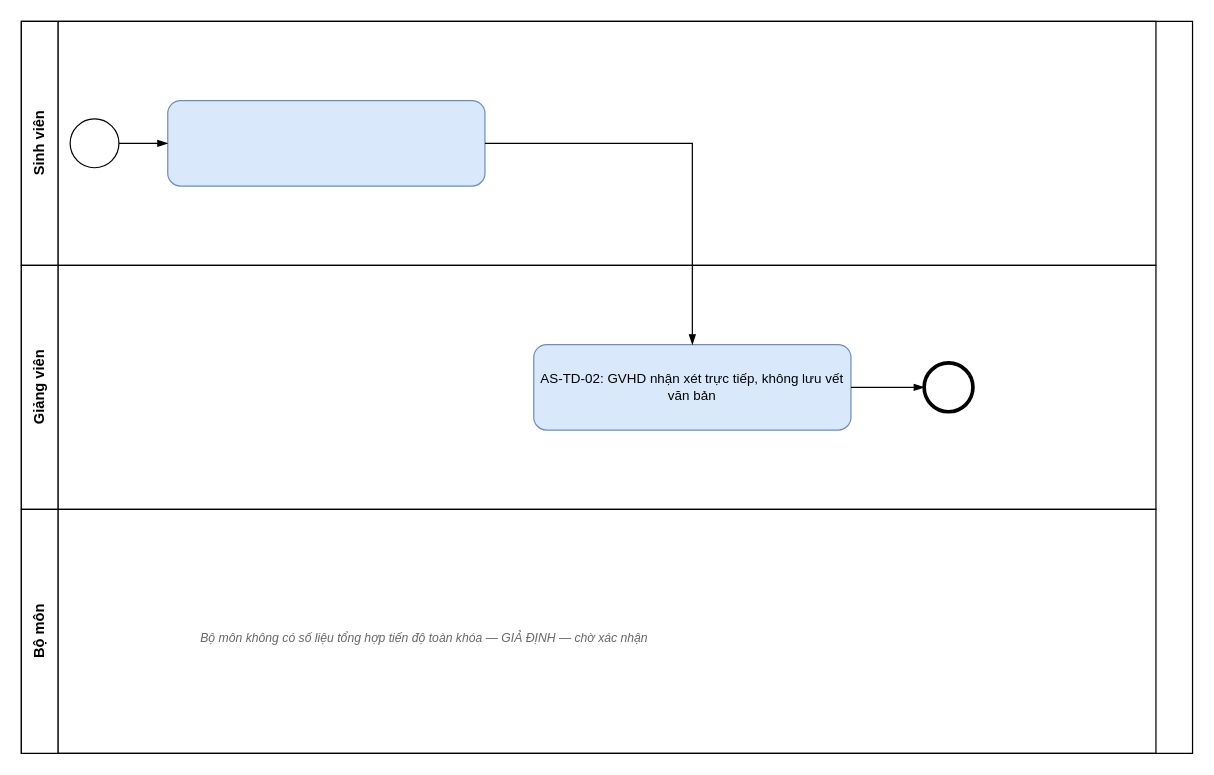
Some shapes in this 1214 by 775 pixel diagram are drawn without their labels. Here are the shapes that lost their labels. From the top down, the centre of each, then its label:
At (94,143): "Bắt đầu".
At (326,142): "AS-TD-01: SV báo cáo tiến độ không định kỳ, gặp trực tiếp/nhắn tin".
At (948,387): "Kết thúc".
